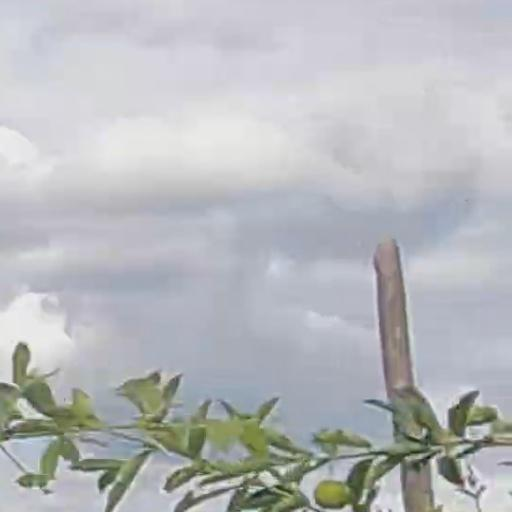acerola: (315, 481, 350, 508)
